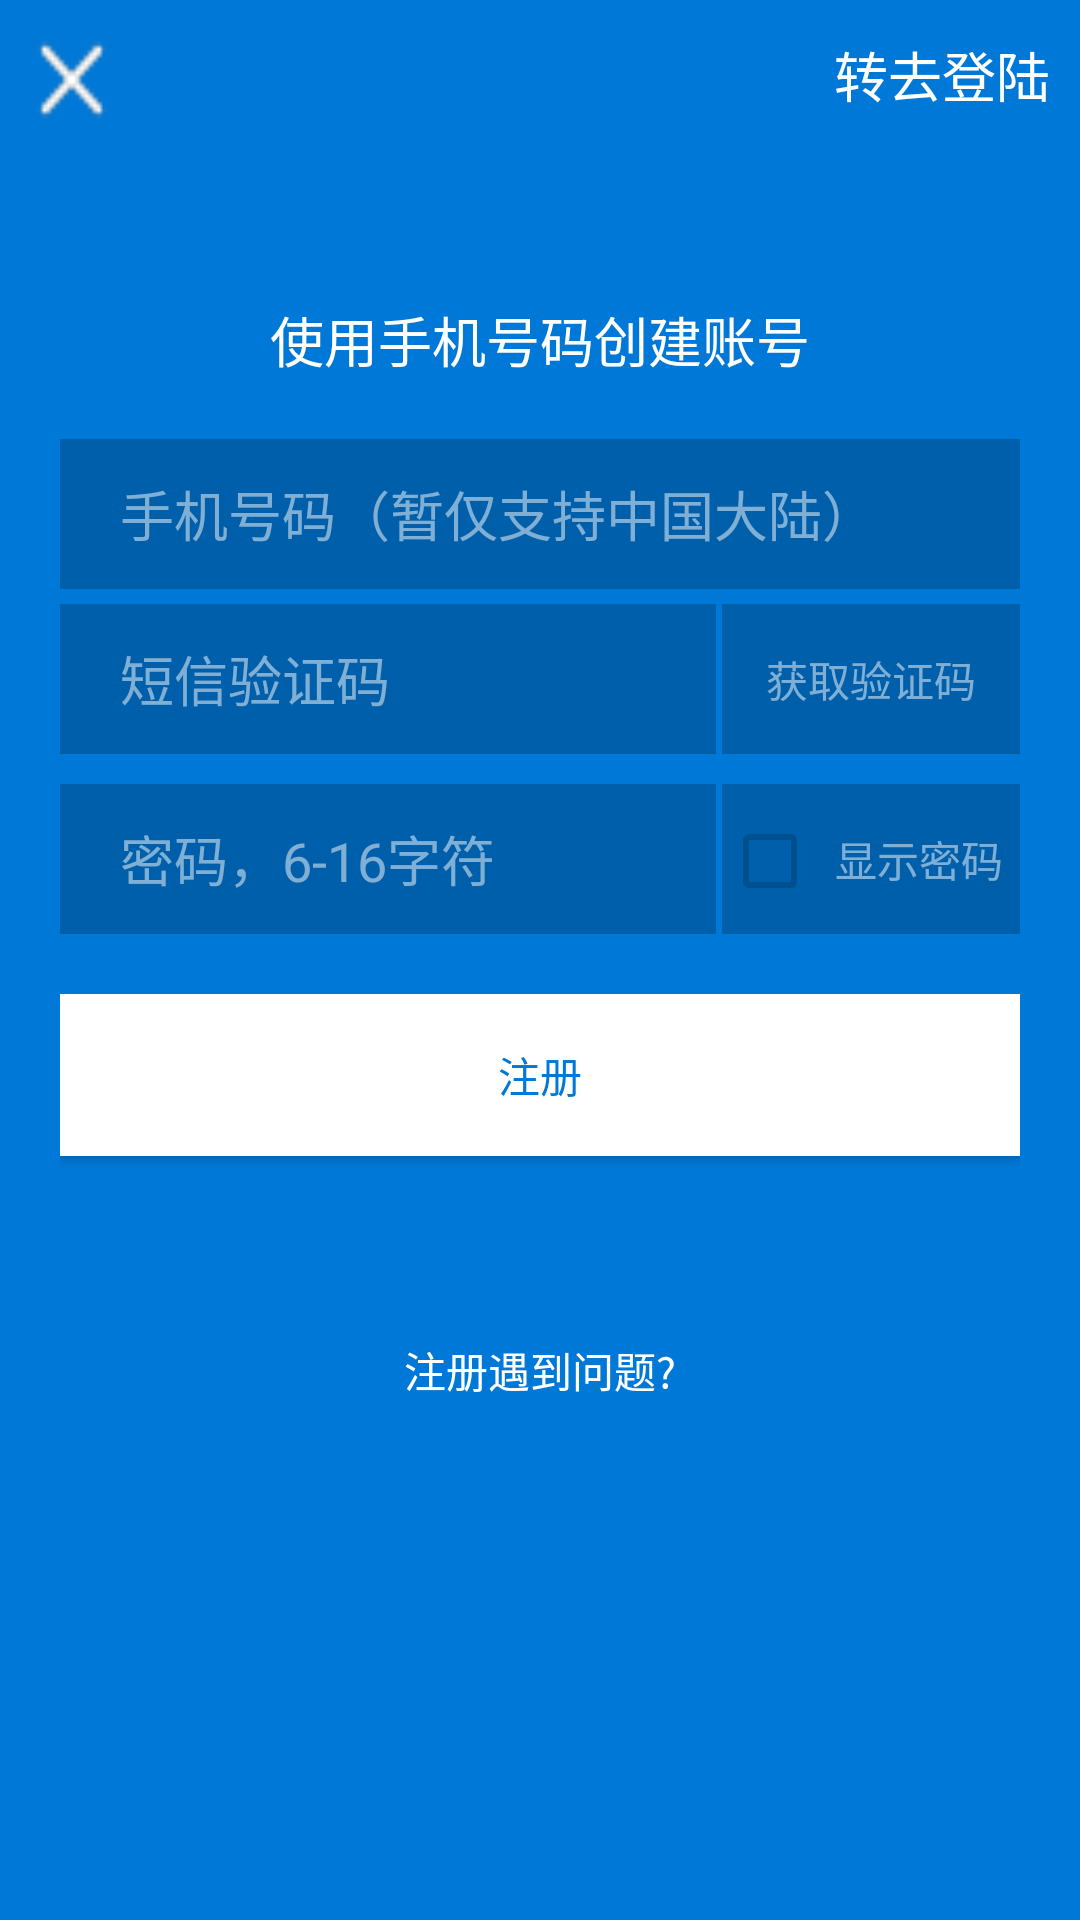

Where to tap for icons on this 1080x1920 app screen, as [x,y]:
close while: [71,79]
